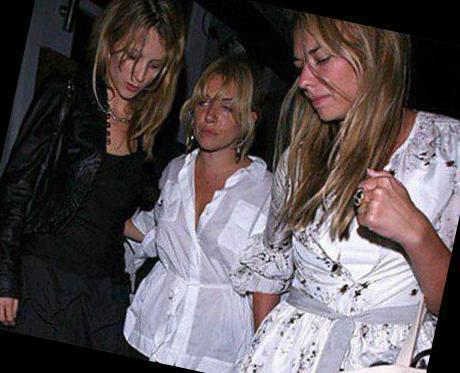Drunk: (289, 26, 360, 122), (189, 76, 246, 153), (111, 19, 163, 103)
